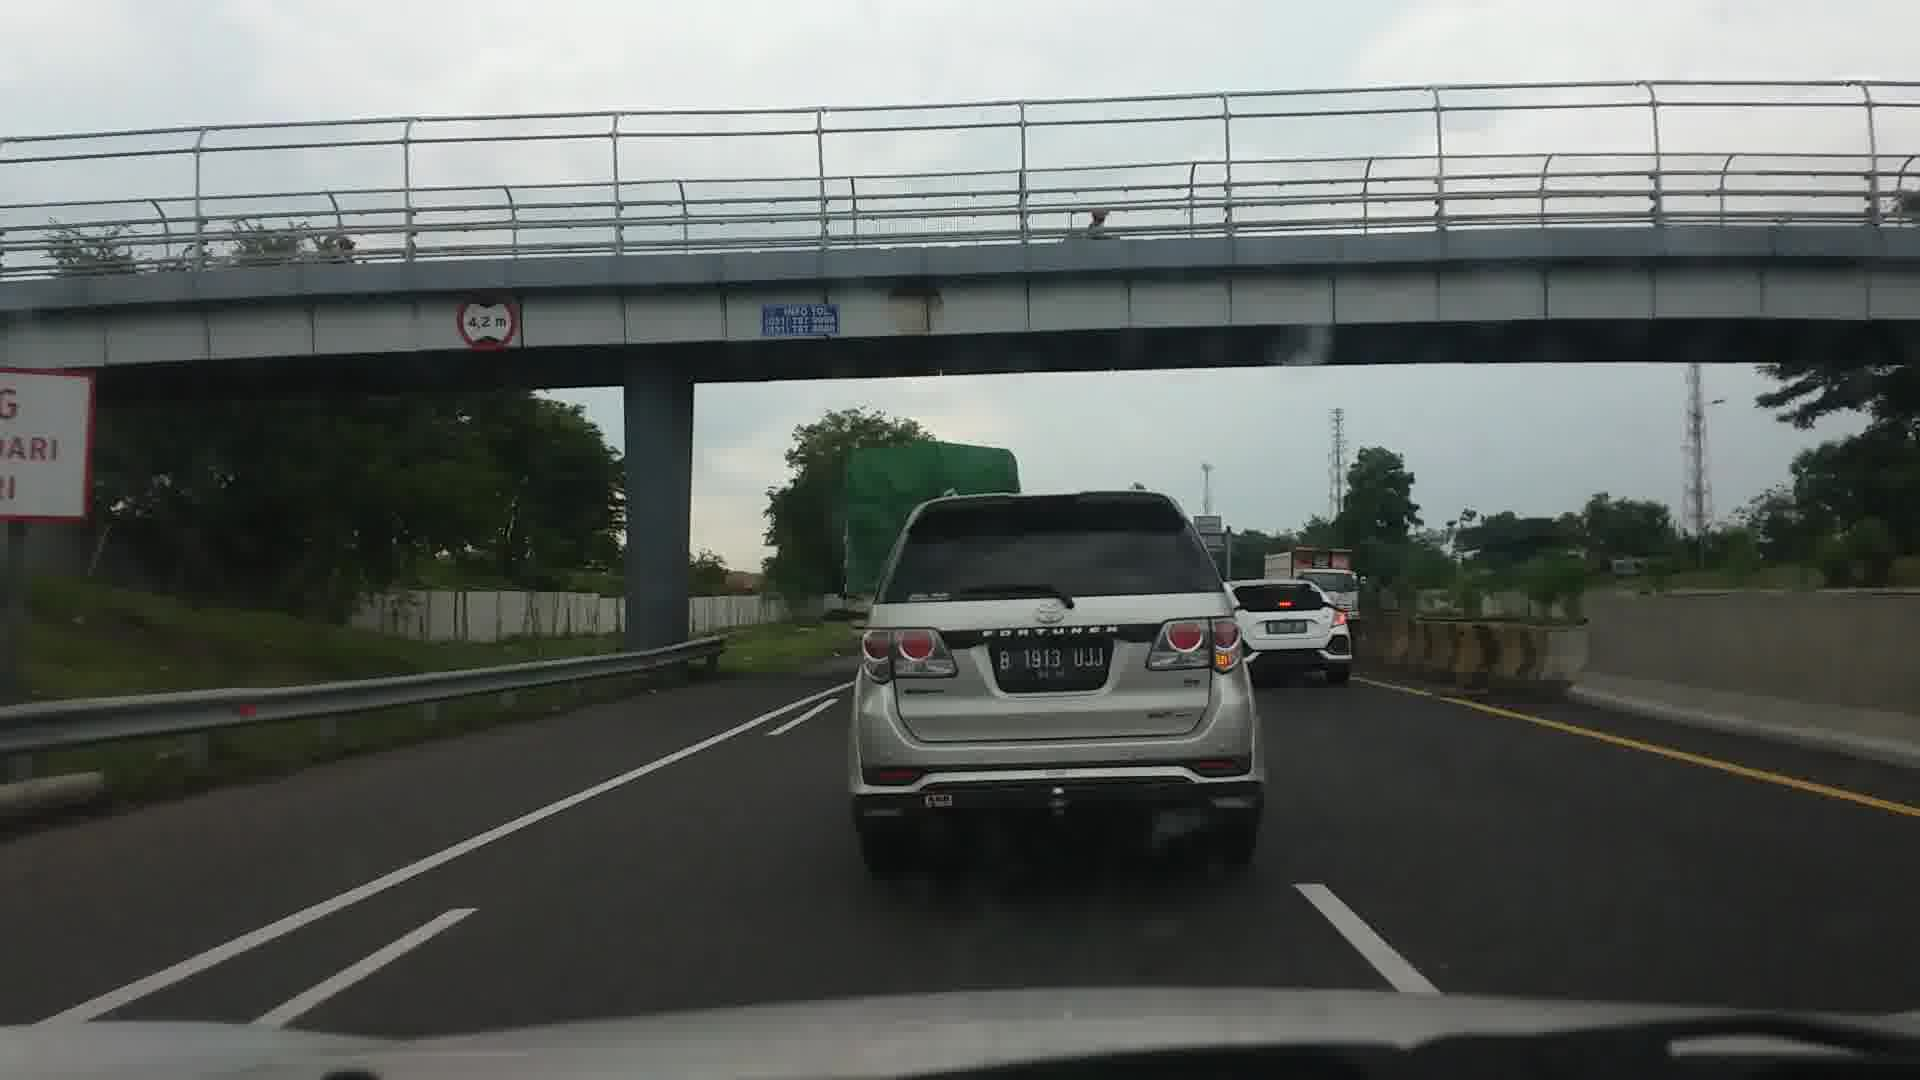plate_positive: (997, 644, 1106, 680)
